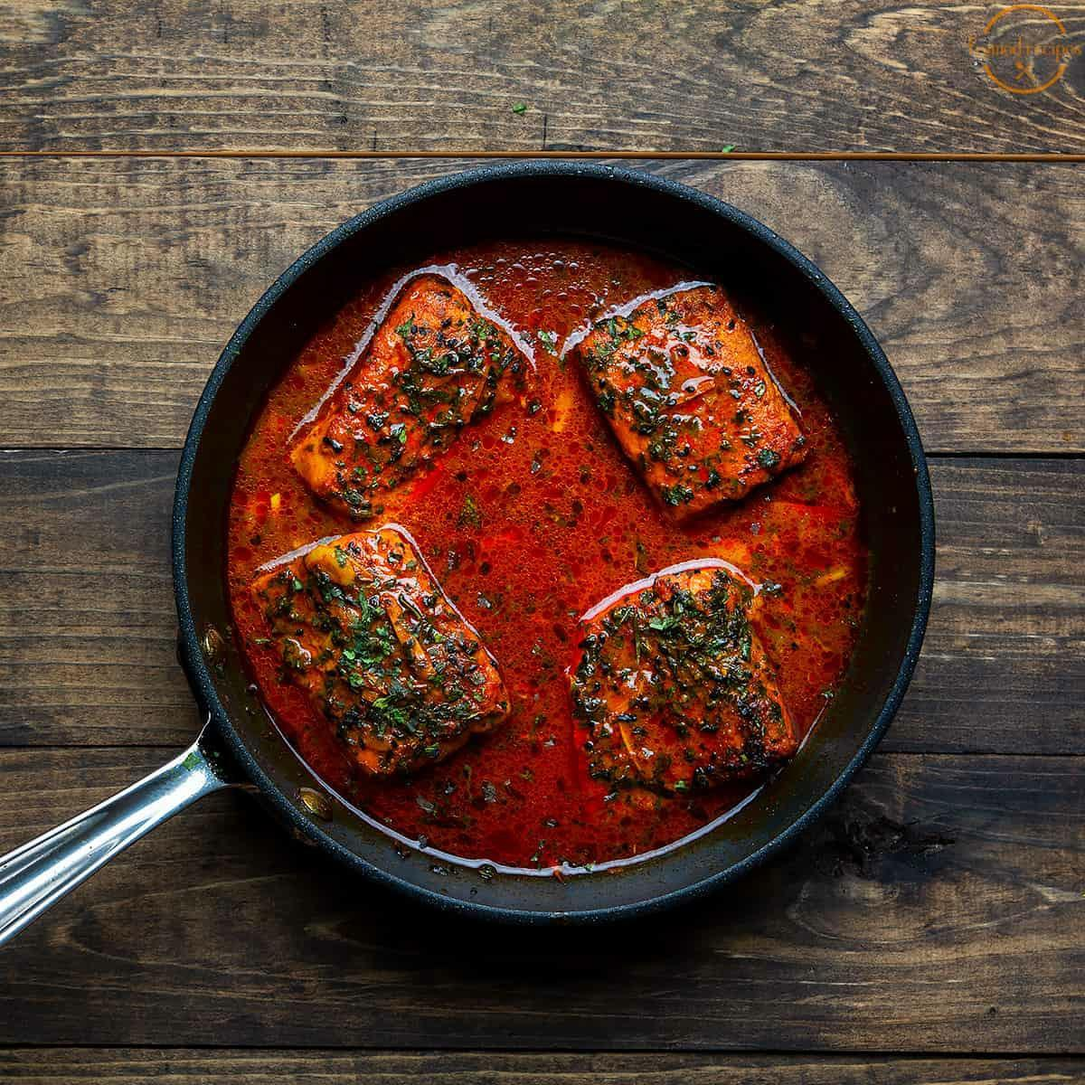FishCurry: (219, 231, 878, 869)
